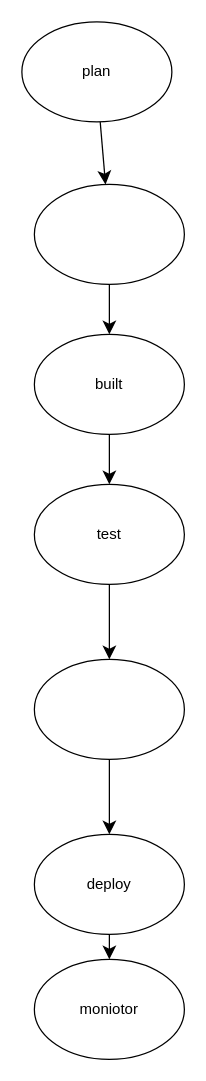
This 206x1081 diagram has some shape labels left out. Each missing label, with the box of its shape:
develop: (33, 183, 184, 284)
release: (33, 658, 184, 759)
